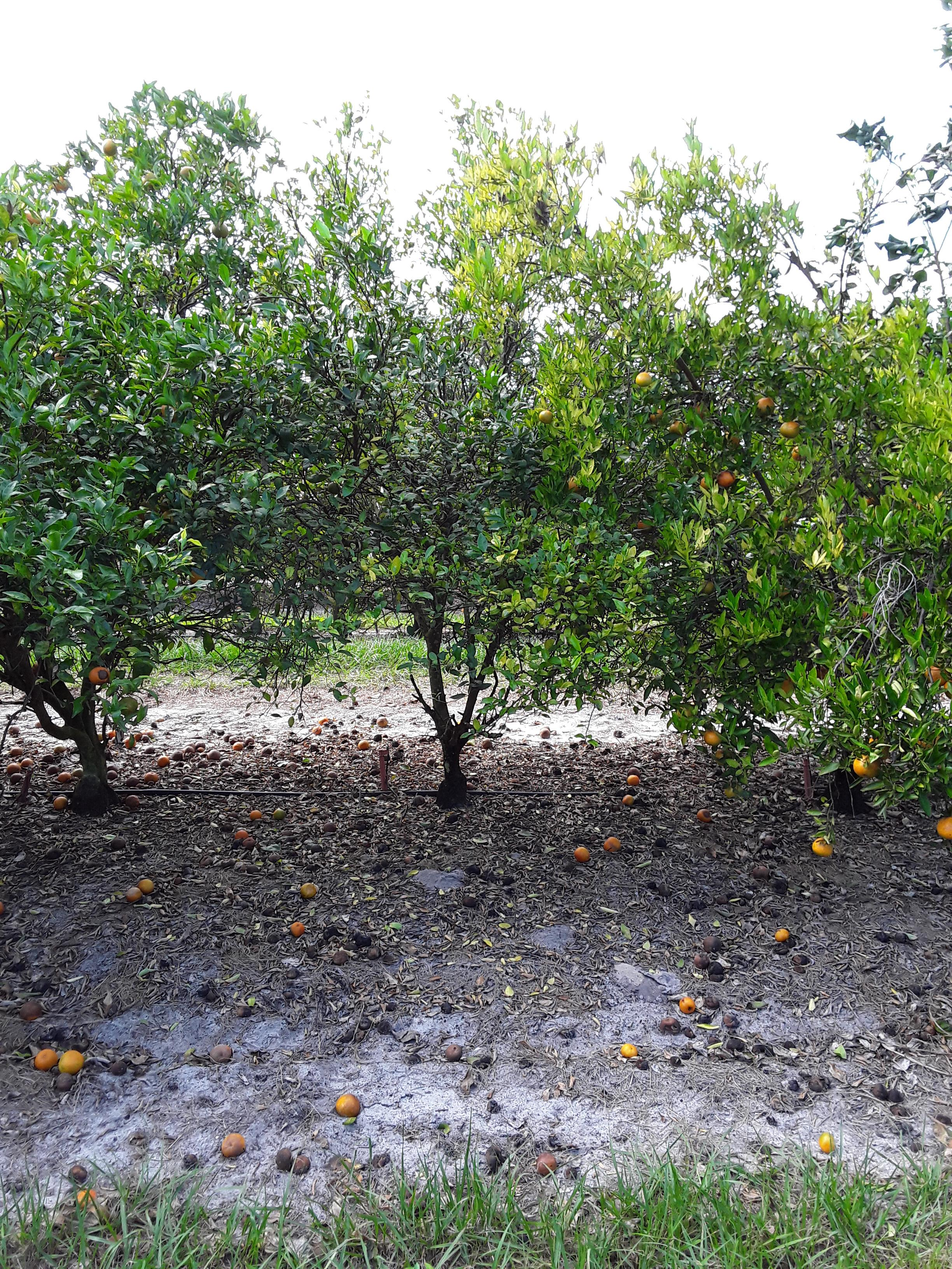fruit_on_ground: (851, 751, 881, 779), (913, 727, 945, 753), (921, 658, 950, 685), (671, 702, 699, 727), (562, 471, 589, 496), (86, 663, 112, 687), (20, 205, 45, 228), (687, 398, 711, 421), (116, 693, 139, 716), (753, 393, 777, 415), (47, 346, 72, 367), (778, 419, 802, 440), (666, 419, 689, 440), (935, 814, 952, 842), (140, 170, 162, 191), (863, 734, 887, 753), (695, 470, 716, 491), (777, 675, 798, 696), (714, 469, 736, 489), (209, 219, 231, 239), (536, 405, 556, 426), (632, 369, 654, 388), (634, 516, 657, 534), (647, 405, 667, 425), (723, 430, 744, 449), (100, 136, 119, 157), (787, 444, 806, 463), (177, 163, 196, 182), (51, 175, 71, 193), (702, 728, 722, 746), (773, 582, 792, 600), (813, 662, 831, 681), (187, 567, 206, 585), (720, 782, 740, 799), (699, 578, 717, 596), (941, 679, 952, 701), (711, 747, 726, 761)
fruit_on_tree: (58, 1048, 86, 1075), (334, 1092, 362, 1119), (220, 1131, 247, 1158), (33, 1047, 58, 1072), (810, 834, 835, 858), (534, 1150, 558, 1175), (18, 998, 44, 1021), (209, 1042, 234, 1064), (74, 1185, 96, 1209), (273, 1146, 294, 1170), (817, 1132, 837, 1156), (294, 1153, 313, 1175), (53, 1073, 74, 1092), (350, 930, 371, 949), (68, 1162, 89, 1181), (444, 1042, 464, 1061), (602, 835, 622, 854), (677, 995, 697, 1014), (299, 881, 319, 900), (725, 1035, 746, 1053), (108, 1059, 129, 1077), (702, 933, 721, 952), (657, 1014, 677, 1032), (619, 1041, 639, 1059), (707, 960, 728, 977), (807, 1075, 826, 1093), (330, 949, 350, 966), (572, 844, 590, 862), (375, 1018, 394, 1035), (133, 841, 152, 858), (751, 863, 770, 880), (137, 876, 156, 893), (886, 1086, 904, 1103), (870, 1082, 888, 1099), (110, 834, 128, 851), (124, 885, 142, 902), (760, 833, 779, 849), (234, 1002, 253, 1018), (289, 920, 306, 937), (774, 926, 791, 943), (703, 993, 721, 1009), (322, 923, 340, 939), (695, 807, 713, 823), (656, 880, 672, 897), (693, 954, 710, 970), (123, 793, 140, 809), (363, 944, 381, 959), (303, 944, 320, 959), (234, 830, 252, 844), (891, 930, 909, 944), (52, 795, 68, 810), (460, 893, 477, 907), (321, 820, 338, 834), (192, 739, 209, 753), (720, 1014, 735, 1029), (444, 809, 460, 823), (241, 837, 257, 851), (124, 774, 140, 788), (4, 759, 20, 773), (143, 769, 159, 783), (206, 748, 223, 761), (549, 766, 564, 780), (625, 771, 640, 785), (271, 807, 286, 821), (479, 736, 494, 750), (464, 861, 480, 874), (439, 1001, 455, 1014), (410, 794, 426, 807), (58, 769, 72, 783), (156, 753, 170, 767), (502, 874, 517, 887), (22, 754, 37, 767), (621, 793, 636, 806), (5, 724, 21, 736), (72, 766, 86, 779), (390, 748, 404, 761), (538, 726, 552, 739), (357, 738, 371, 751), (249, 808, 263, 821), (51, 744, 66, 756), (9, 745, 24, 757), (233, 827, 248, 839), (0, 897, 8, 918), (122, 736, 136, 748), (170, 748, 184, 760), (242, 736, 255, 748), (231, 741, 244, 753), (377, 715, 390, 727), (465, 779, 479, 790), (258, 745, 272, 756), (9, 772, 22, 783), (105, 770, 119, 780), (46, 764, 58, 775), (95, 730, 106, 741), (229, 734, 240, 745), (32, 719, 44, 729), (310, 724, 322, 734), (107, 726, 117, 738), (371, 733, 383, 743), (221, 732, 233, 742), (144, 729, 155, 739), (425, 756, 435, 767), (320, 715, 332, 724), (301, 740, 311, 750), (309, 741, 319, 750)
